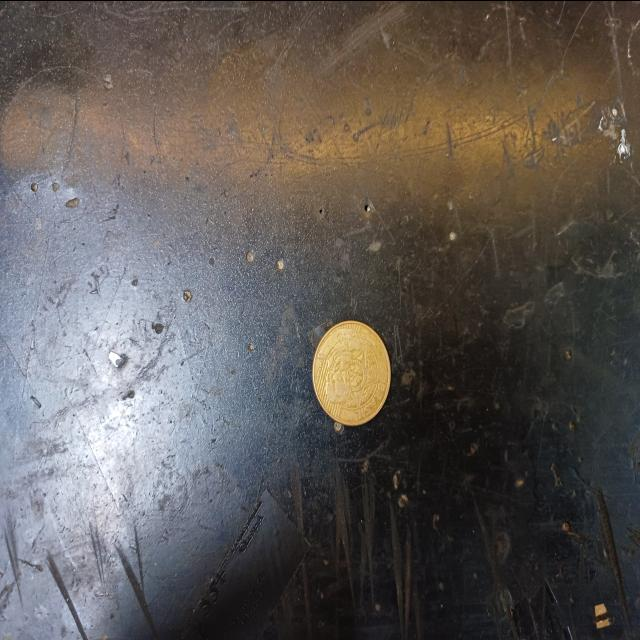25 cents: (310, 316, 394, 428)
